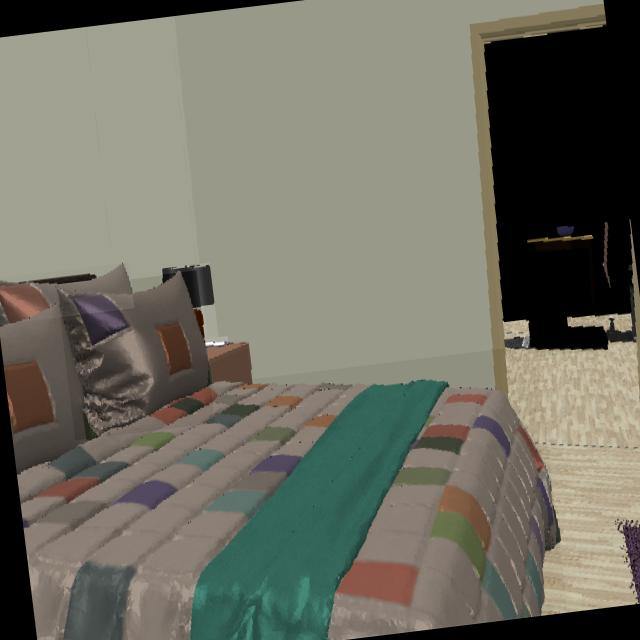bed: (17, 380, 559, 640)
book: (206, 337, 227, 347)
chair: (606, 318, 633, 341), (602, 222, 609, 289)
lamp: (162, 266, 214, 337)
nighttable: (207, 342, 254, 384)
pillow: (56, 273, 208, 437), (0, 305, 95, 473), (0, 263, 132, 323)
table: (529, 235, 608, 348)
